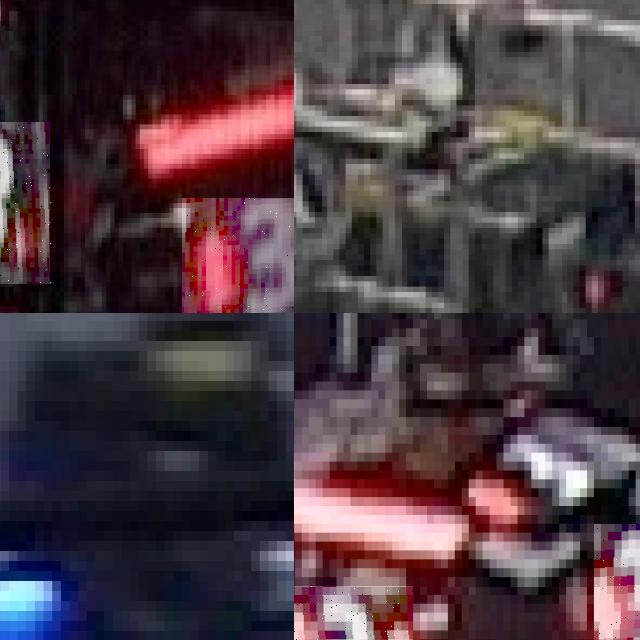R3: (182, 198, 294, 313), (0, 121, 51, 284), (294, 585, 413, 640), (593, 524, 640, 640)
